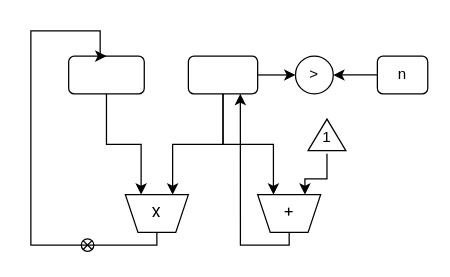
Some shapes in this 450 by 277 pixel diagram are drawn without their labels. The shapes that lost their labels are listed below. From the top down, each one's centre as x and y in pixels, then its label:
At (x=105, y=74): "product".
At (x=222, y=74): "counter".
